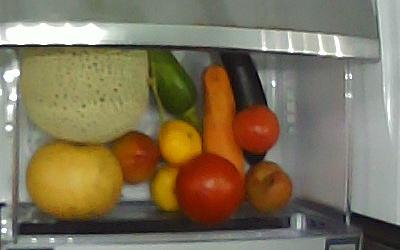carrot: (201, 63, 245, 177)
eggplant: (220, 49, 269, 166)
melon: (20, 46, 149, 143)
pear: (25, 138, 123, 219)
prune: (109, 130, 160, 183), (244, 160, 292, 214), (231, 104, 279, 152)
tangerine: (157, 119, 202, 163), (150, 164, 180, 211)
tomato: (174, 152, 242, 223)
zucchini: (145, 47, 202, 133)
